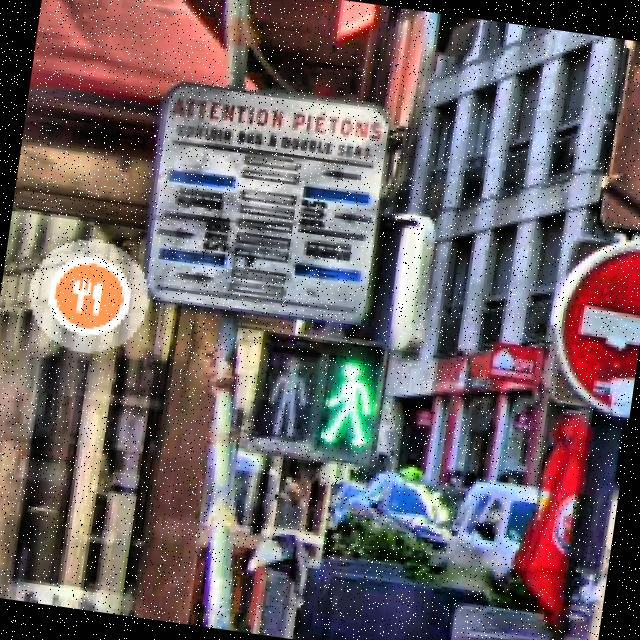green_light: (306, 350, 384, 452)
